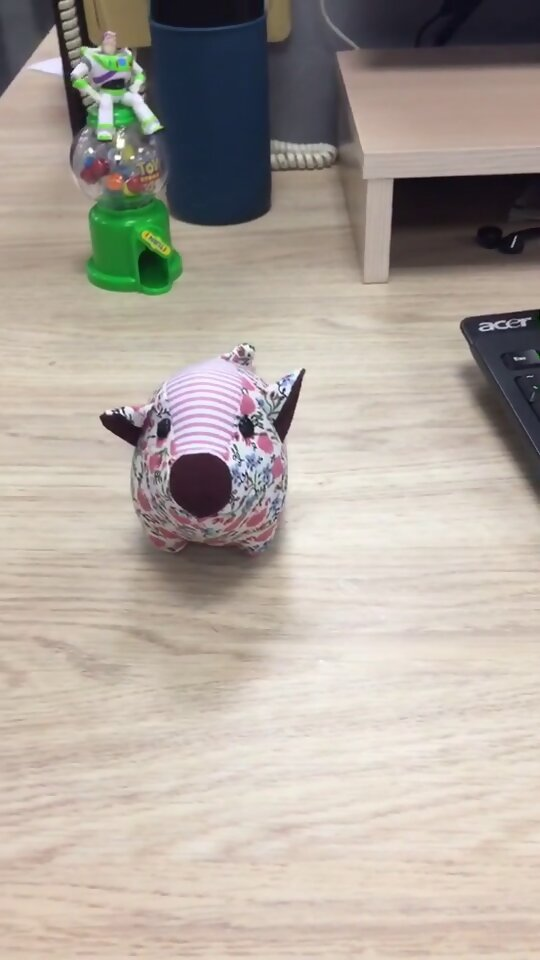pig: (96, 340, 310, 561)
